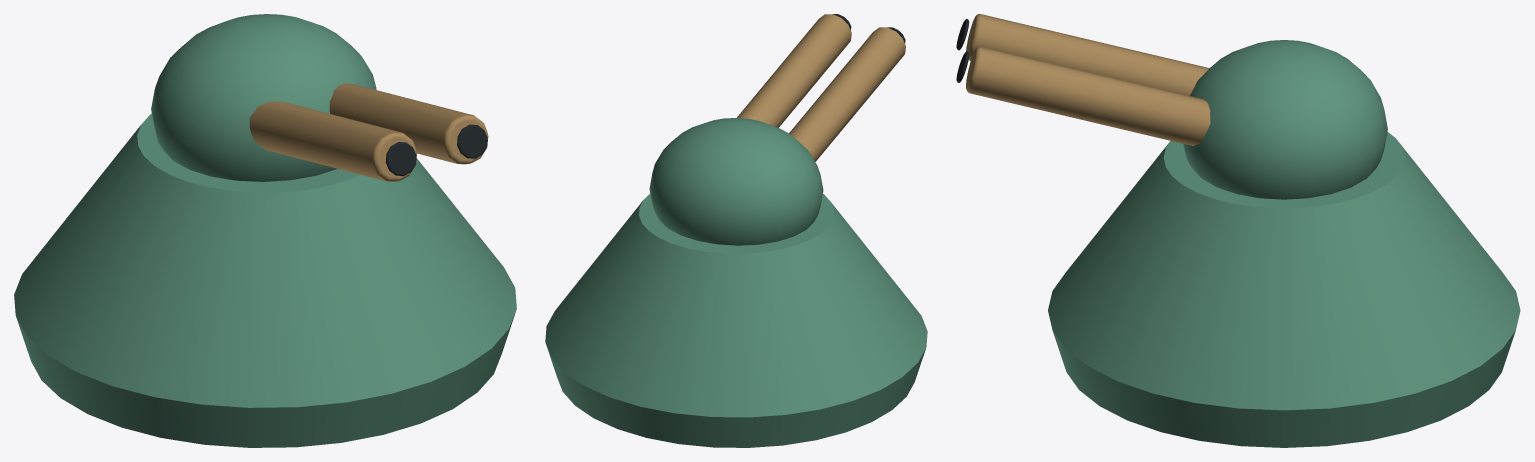
3 renders of one model, left to right at view 1: azimuth 30°, elevation 25°; view 2: azimuth 150°, elevation 25°; view 3: azimuth 270°, elevation 25°, orthographic. The views are drawn at different scales.
Parts seen in each view (by area): view 1: Turret armoured pedestal, Weapon pivot, Weapon barrel, Weapon barrel.001, Weapon dark bore.001, Weapon dark bore; view 2: Turret armoured pedestal, Weapon pivot, Weapon barrel, Weapon barrel.001; view 3: Turret armoured pedestal, Weapon pivot, Weapon barrel.001, Weapon barrel.
Part boxes in pixels (box(x1,y1,x2,y2)): Turret armoured pedestal: box(14, 113, 516, 447); Weapon pivot: box(151, 14, 376, 181); Weapon barrel: box(249, 101, 416, 181); Weapon barrel.001: box(329, 83, 488, 164); Weapon dark bore.001: box(457, 124, 487, 158); Weapon dark bore: box(385, 142, 416, 175); Turret armoured pedestal: box(545, 194, 927, 447); Weapon pivot: box(649, 118, 823, 245); Weapon barrel: box(789, 27, 905, 161); Weapon barrel.001: box(737, 14, 851, 127); Turret armoured pedestal: box(1048, 132, 1520, 447); Weapon pivot: box(1183, 40, 1387, 199); Weapon barrel.001: box(966, 46, 1210, 146); Weapon barrel: box(966, 14, 1209, 95).
Size of the model in its own units: 1.96 by 1.47 by 2.34.
